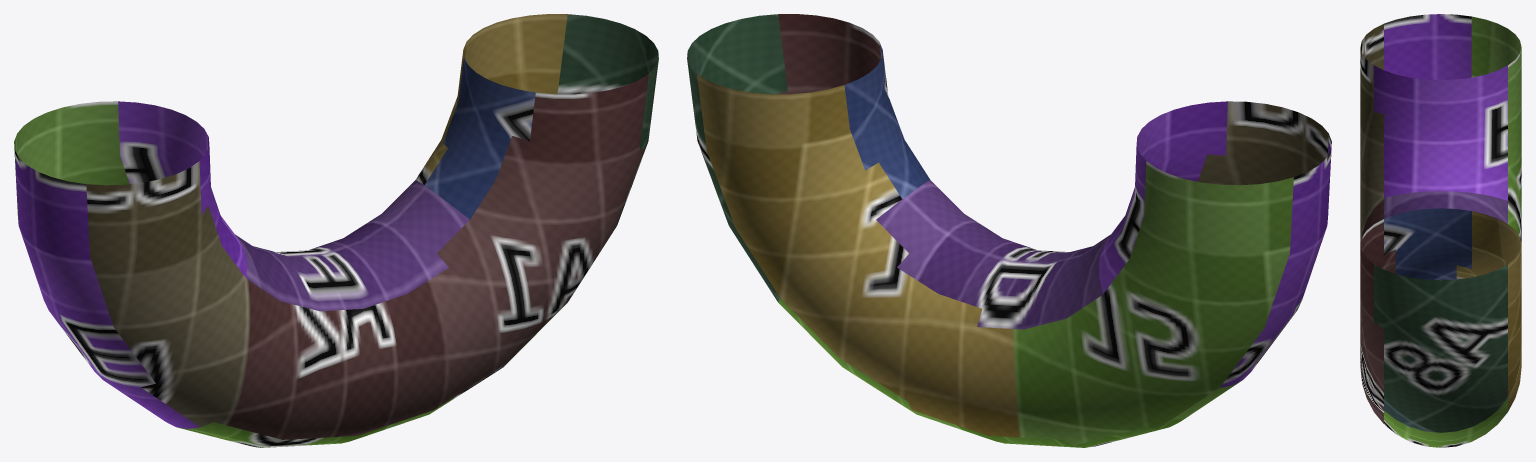
File: hell_extra_pipe.fbx
The picture shows the model from 3 angles, left to right: view 1: azimuth 30°, elevation 25°; view 2: azimuth 150°, elevation 25°; view 3: azimuth 270°, elevation 25°; orthographic projection. The views are drawn at different scales.
Visible parts, largest first — view 1: Stairs_to_hell_pipes.001; view 2: Stairs_to_hell_pipes.001; view 3: Stairs_to_hell_pipes.001.
Part boxes in pixels (bbox=[...]): Stairs_to_hell_pipes.001: bbox=[14, 14, 658, 447]; Stairs_to_hell_pipes.001: bbox=[687, 14, 1331, 447]; Stairs_to_hell_pipes.001: bbox=[1360, 14, 1521, 447].
Bounding box in the file's own units: 8.02 × 4.28 × 2.2.
